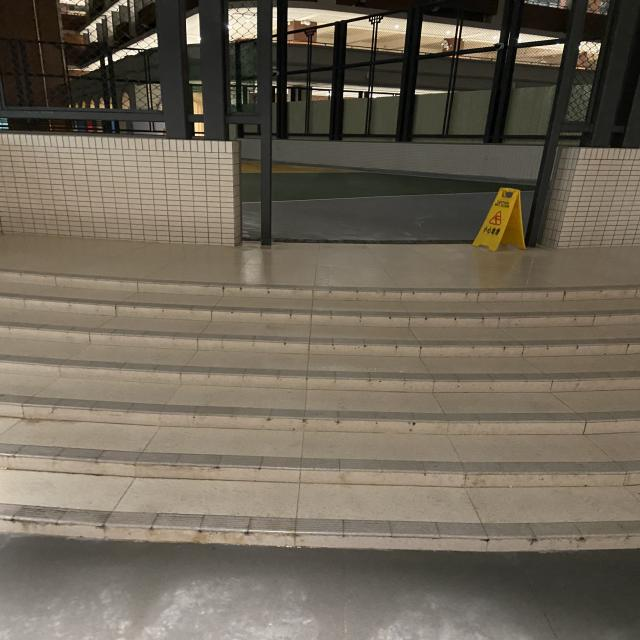Stairs: (0, 247, 640, 560)
